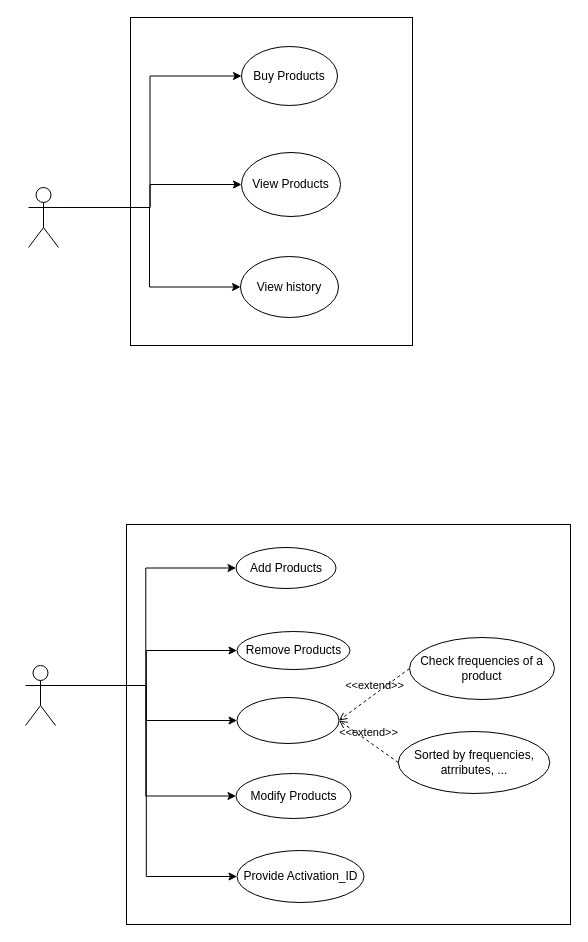
The diagram is 588 pixels wide and 942 high, and some of its shapes have lost their labels. Each missing label, with the centre of its shape:
"Admin" belongs at point 40,695.
"Customer" belongs at point 43,217.
"View Billings" belongs at point 287,720.
